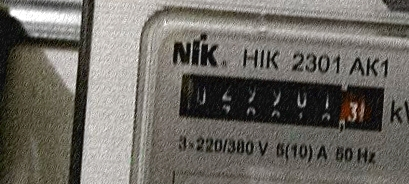0: (293, 84, 310, 110), (192, 82, 208, 105)
1: (320, 86, 334, 110)
2: (218, 79, 235, 102)
3: (344, 99, 361, 123)
9: (269, 84, 283, 108), (244, 81, 258, 103)
screen: (169, 64, 394, 142)
